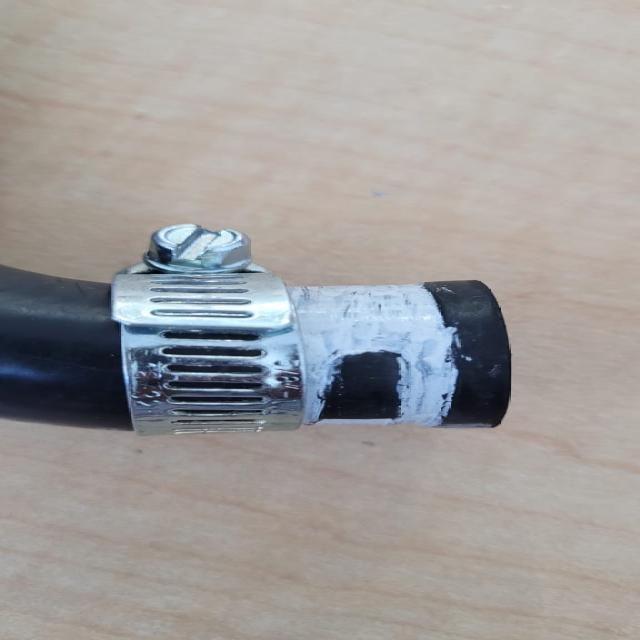clamp: (108, 225, 304, 438)
pipe: (293, 286, 447, 430)
